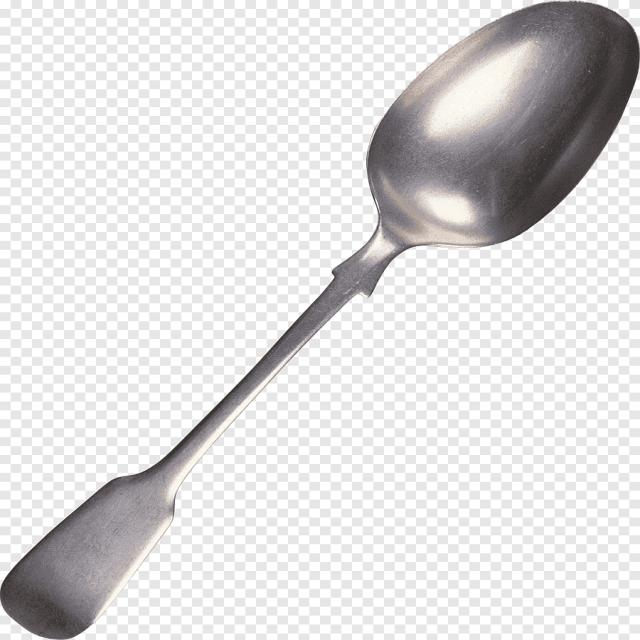Sendok: (0, 4, 638, 635)
